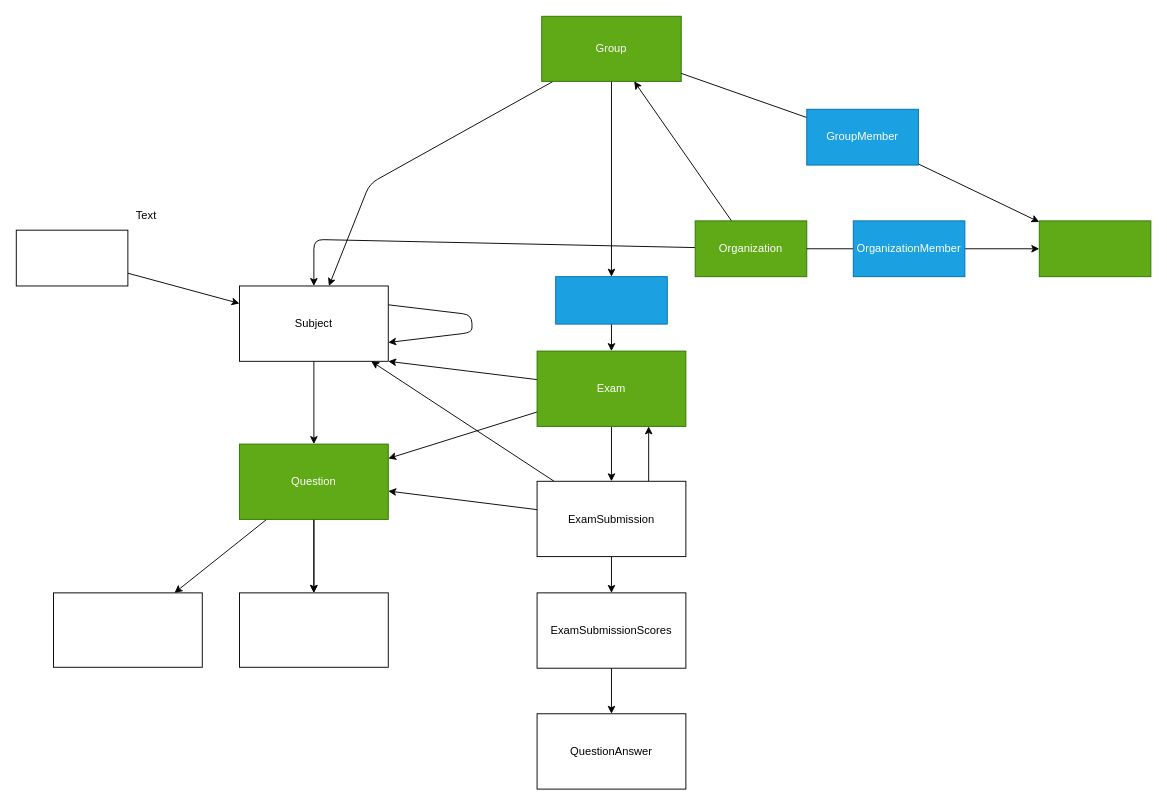
Some shapes in this 1167 by 805 pixel diagram are drawn without their labels. Each missing label, with the centre of its shape:
ClosedQuestion: point (313, 629)
Exercise: point (71, 257)
FreeTextQuestion: point (127, 629)
Profile: point (1094, 248)
ScheduledExam: point (611, 300)
